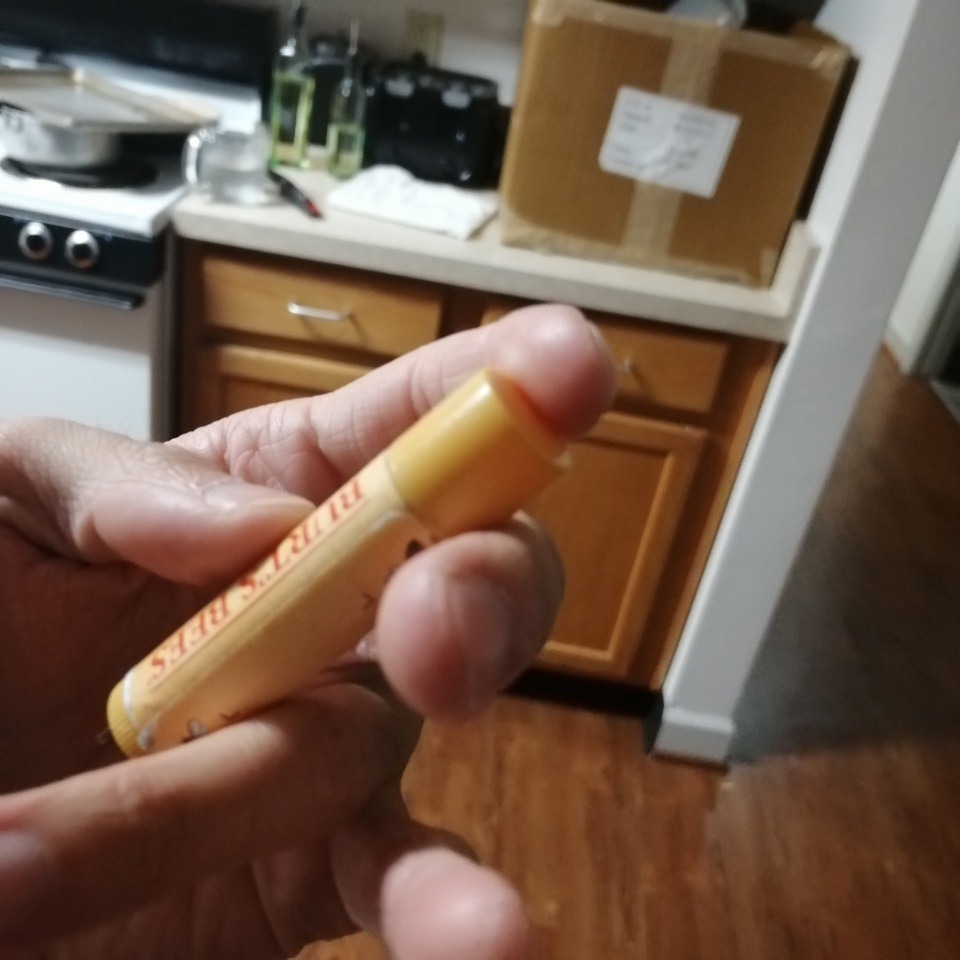chapstick: (105, 363, 576, 765)
